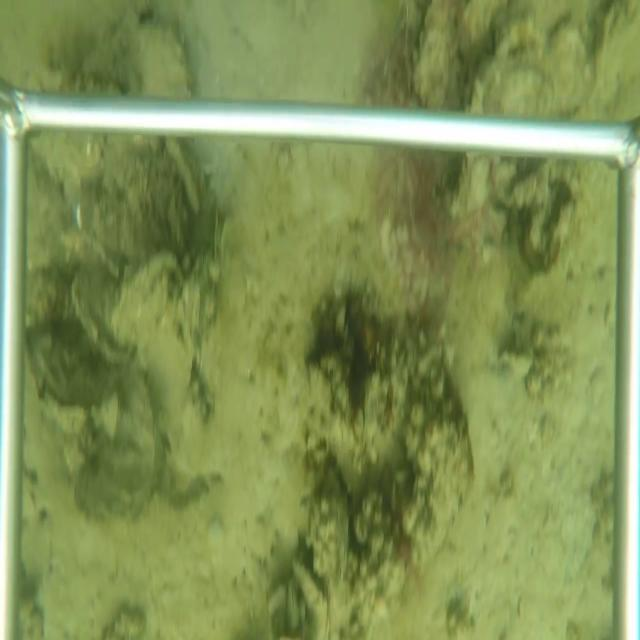Oyster-Open: (82, 293, 135, 362)
